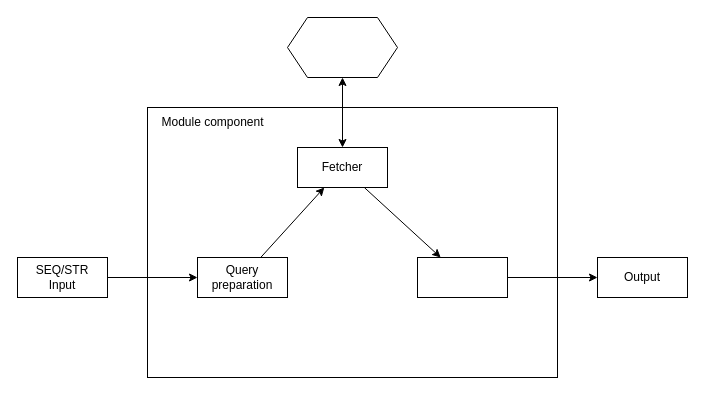
Some shapes in this 705 by 395 pixel diagram are drawn without their labels. Each missing label, with the centre of its shape:
"Data preparation" belongs at point 462,277.
"Data source" belongs at point 342,47.
